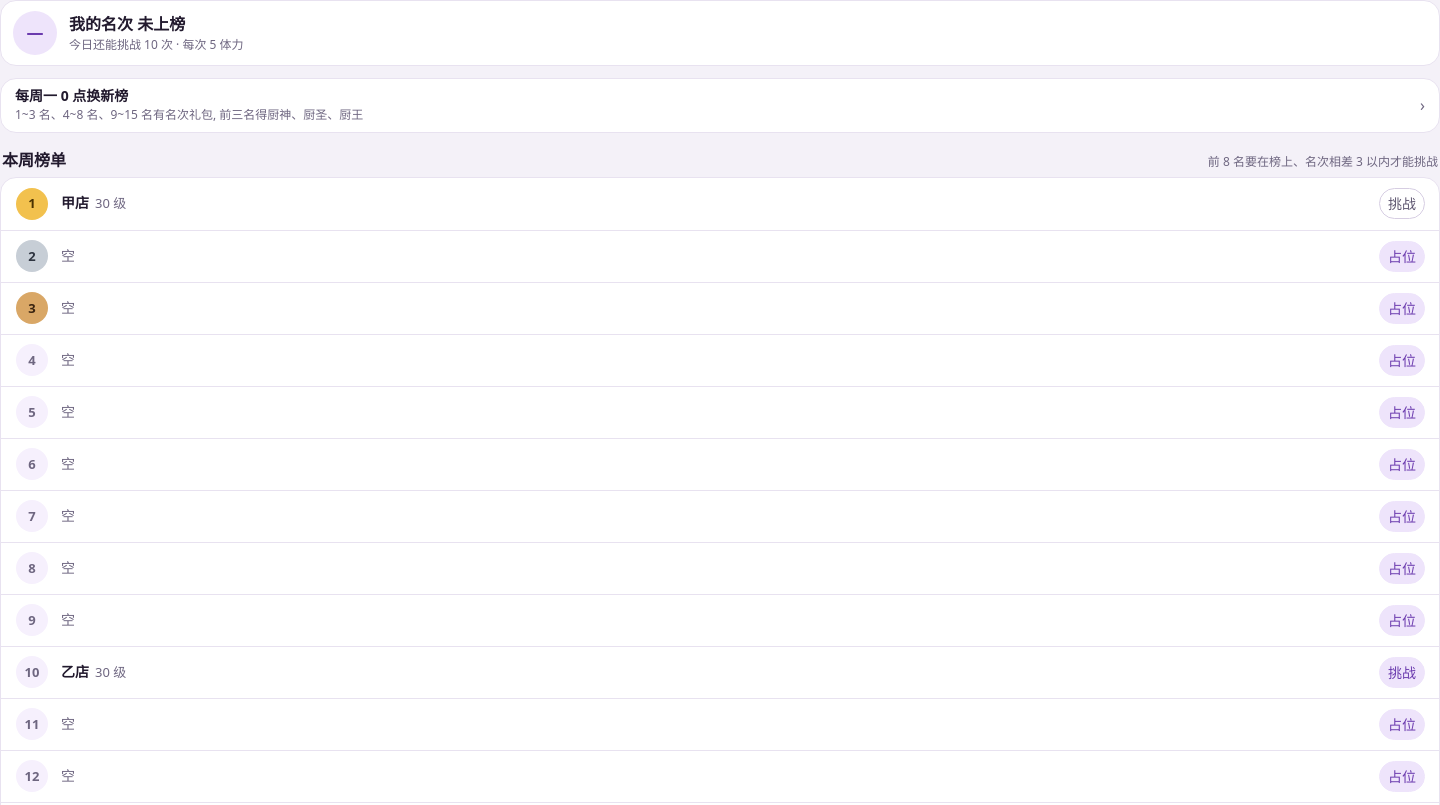
RankPanel › 前 8 名不在范围内时灰掉，原因写在榜单标题右边、行里不重复（P9 用户反馈）；第 10 名可以挑战，显示结果
The image size is (1440, 805).
Expected: the button with test id "rc-1" is disabled, [1379,188,1425,219]
Expected: the text with test id "rank-rule" reads "前 8 名要在榜上、名次相差 3 以内才能挑战", [1208,153,1438,170]
What coordinates should you click on to do the following:
click the button with test id "rc-10"
I would click on:
 (1402, 672)
Its box is [1379,657,1425,688].
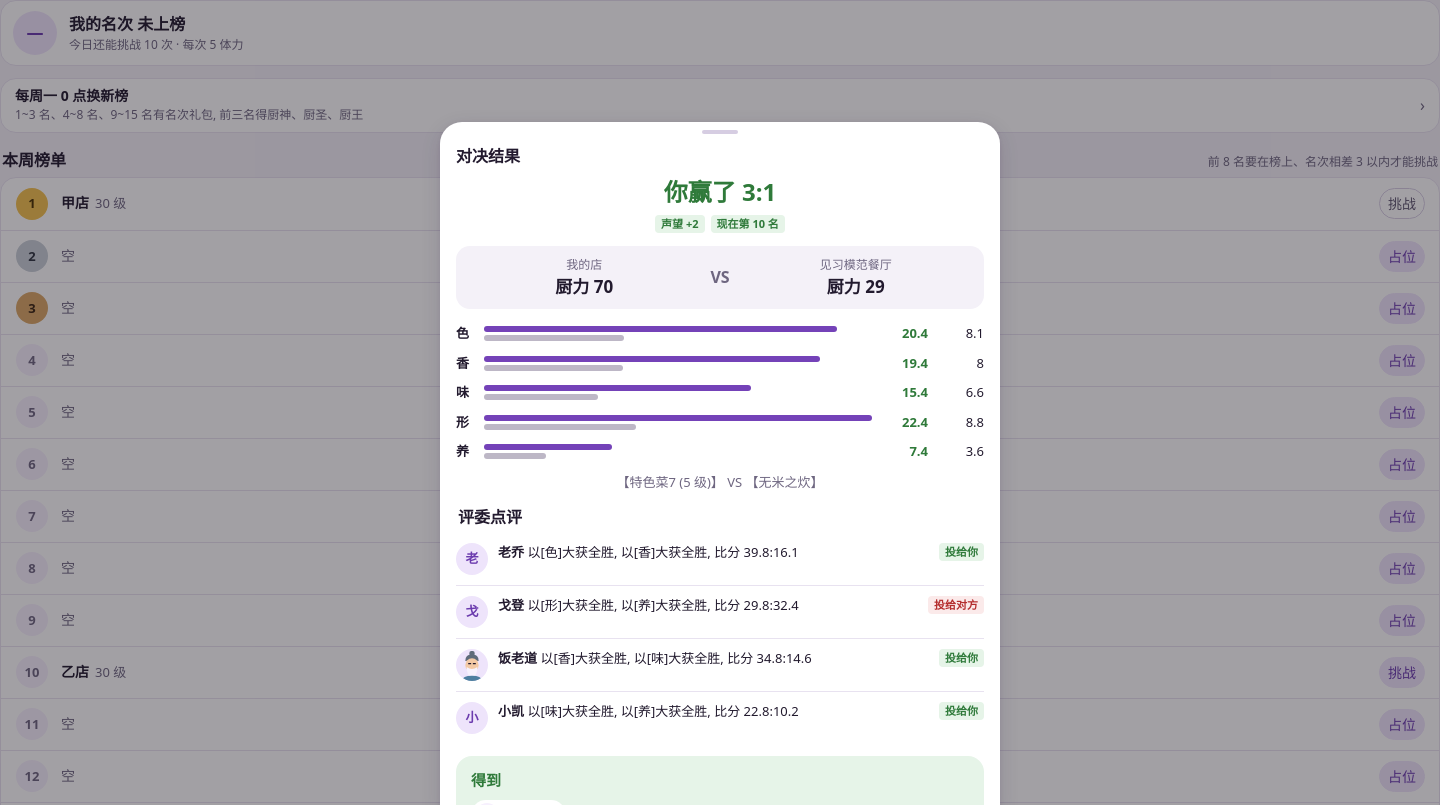
Expected: the text with class "dt-sheet-title" reads "对决结果", [456,144,520,166]
Expected: the text with test id "duel-headline" reads "你赢了 3:1", [664,174,776,208]
Expected: the elements with class "dt-tag" read "声望 +2", "现在第 10 名", in this order, [655,214,705,232]; [711,214,785,232]
